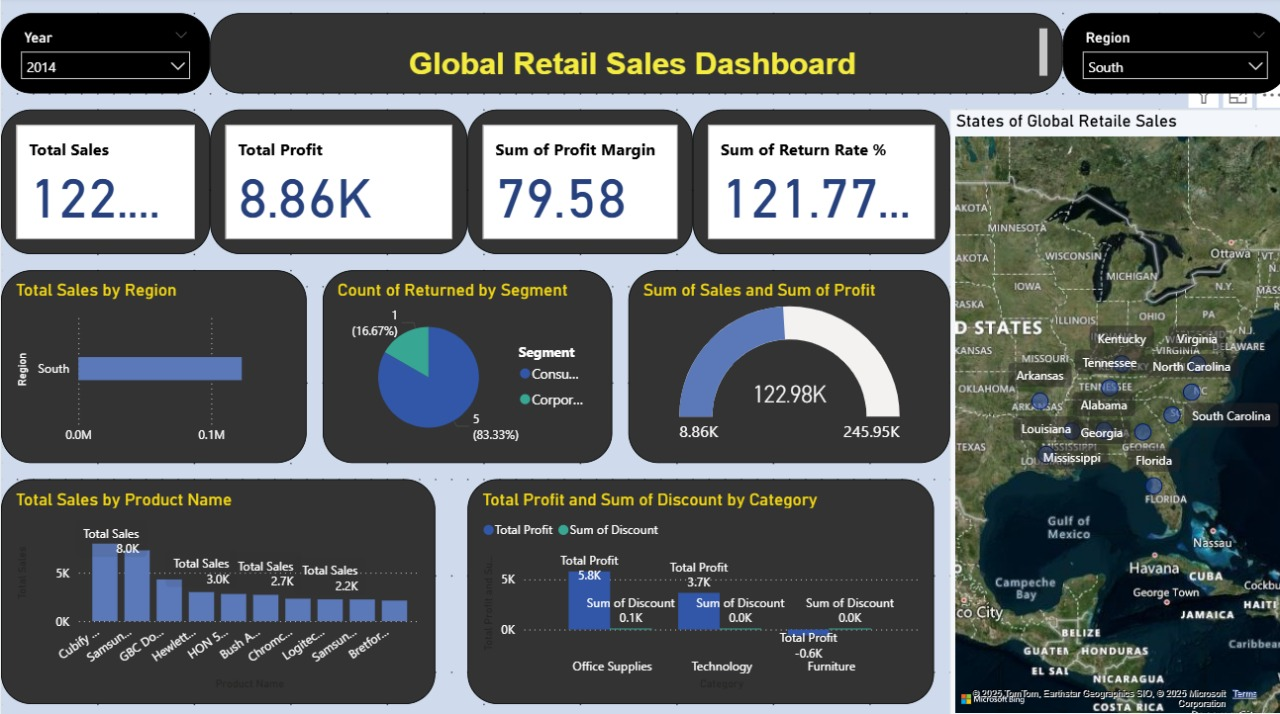

The dashboard page shown, as its layout file describes it:
{"tool":"powerbi","page":{"name":"Page 1","canvas":[1280,720],"ordinal":0},"visuals":[{"type":"map","title":"States of Global Retaile  Sales","fields":{"Category":["Orders.State"]},"box":[944,112,336,608],"z":0},{"type":"cardVisual","fields":{"Data":["Orders.Total Sales"]},"box":[0,112,208,144],"z":1000},{"type":"cardVisual","fields":{"Data":["Orders.Total Profit"]},"box":[208,112,256,144],"z":2000},{"type":"cardVisual","fields":{"Data":["Sum(Orders.Profit Margin)"]},"box":[464,112,224,144],"z":3000},{"type":"cardVisual","fields":{"Data":["Sum(Orders.Return Rate %)"]},"box":[688,112,256,144],"z":4000},{"type":"pieChart","fields":{"Category":["Orders.Segment"],"Y":["CountNonNull(Returns.Returned)"]},"box":[320,272,288,192],"z":5000},{"type":"clusteredColumnChart","fields":{"Category":["Orders.Category"],"Y":["Orders.Total Profit","Sum(Orders.Discount)"]},"box":[464,480,464,224],"z":6000},{"type":"barChart","fields":{"Category":["Orders.Region"],"Y":["Orders.Total Sales"]},"box":[0,272,304,192],"z":7000},{"type":"columnChart","fields":{"Y":["Orders.Total Sales"],"Category":["Orders.Product Name"]},"box":[0,480,432,224],"z":8000},{"type":"gauge","fields":{"Y":["Sum(Orders.Sales)"],"MinValue":["Sum(Orders.Profit)"]},"box":[624,272,320,192],"z":9000},{"type":"textbox","box":[208,16,848,80],"z":10000},{"type":"slicer","fields":{"Values":["Orders.Year"]},"box":[0,16,208,80],"z":11000},{"type":"slicer","fields":{"Values":["Orders.Region"]},"box":[1056,16,224,80],"z":12000}]}

Visuals, with their boxes in screenshot pixels (x1, y1, x2, y2), scaled from the page's 1280x720 canvas onto the 1280x714 screenshot:
"States of Global Retaile  Sales" map: (left=944, top=111, right=1279, bottom=713)
cardVisual - Orders.Total Sales: (left=0, top=111, right=208, bottom=254)
cardVisual - Orders.Total Profit: (left=208, top=111, right=464, bottom=254)
cardVisual - Sum(Orders.Profit Margin): (left=464, top=111, right=688, bottom=254)
cardVisual - Sum(Orders.Return Rate %): (left=688, top=111, right=944, bottom=254)
pieChart - Orders.Segment x CountNonNull(Returns.Returned): (left=320, top=270, right=608, bottom=460)
clusteredColumnChart - Orders.Category x Orders.Total Profit: (left=464, top=476, right=928, bottom=698)
barChart - Orders.Region x Orders.Total Sales: (left=0, top=270, right=304, bottom=460)
columnChart - Orders.Total Sales x Orders.Product Name: (left=0, top=476, right=432, bottom=698)
gauge - Sum(Orders.Sales) x Sum(Orders.Profit): (left=624, top=270, right=944, bottom=460)
textbox: (left=208, top=16, right=1056, bottom=95)
slicer - Orders.Year: (left=0, top=16, right=208, bottom=95)
slicer - Orders.Region: (left=1056, top=16, right=1279, bottom=95)
